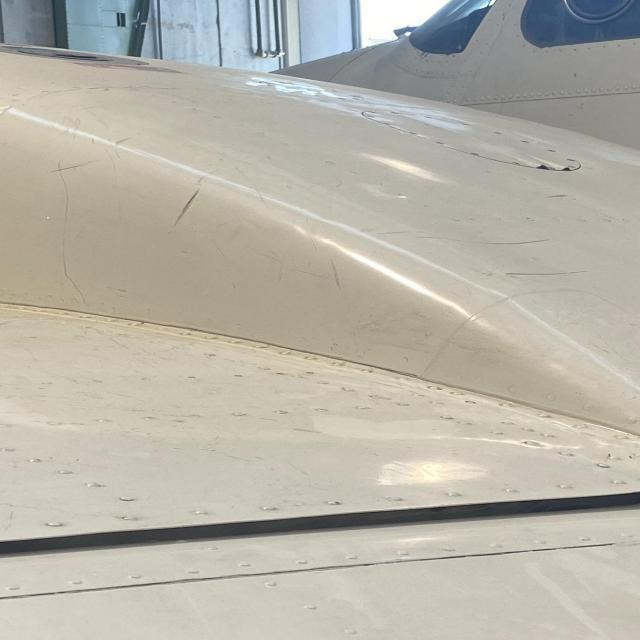Scratch: (49, 156, 94, 310), (497, 265, 583, 280), (475, 234, 551, 247)
